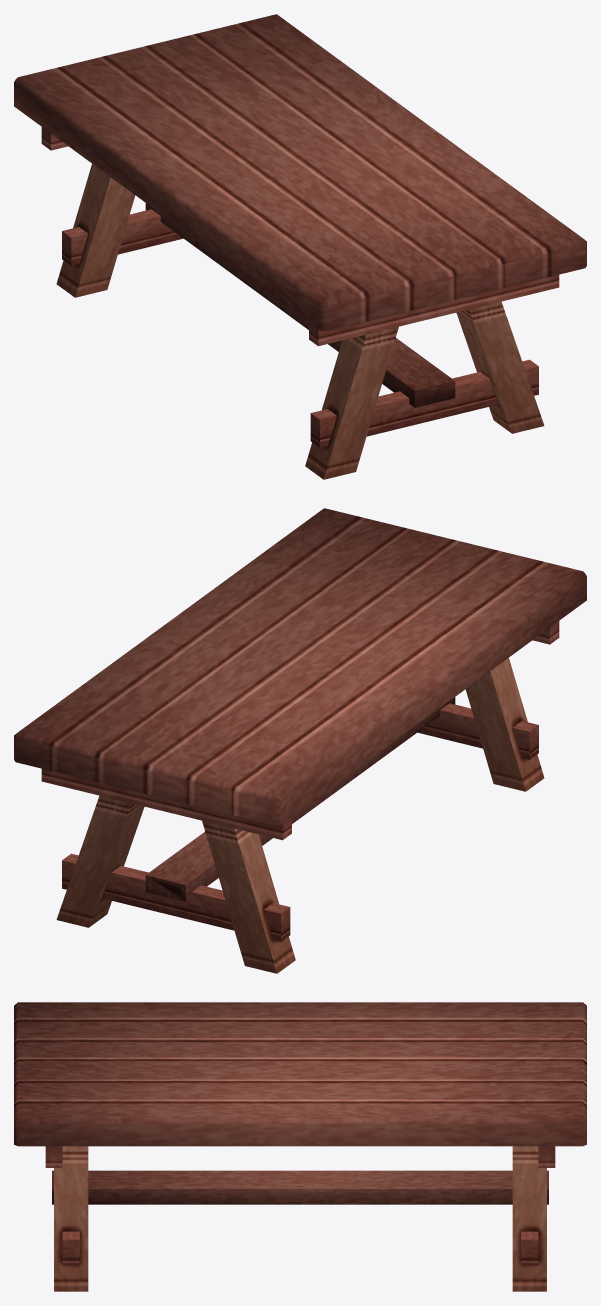
The model's file is LongTable.fbx.
The picture shows the model from 3 angles, top to bottom: view 1: azimuth 30°, elevation 25°; view 2: azimuth 150°, elevation 25°; view 3: azimuth 270°, elevation 25°; orthographic projection. The views are drawn at different scales.
Visible parts, largest first — view 1: LongTable; view 2: LongTable; view 3: LongTable.
Part boxes in pixels (x1,y1,x2,y2): LongTable: [14, 14, 586, 479]; LongTable: [14, 508, 586, 973]; LongTable: [14, 1002, 586, 1291].
Bounding box in the file's own units: 495 × 350 × 1000.
